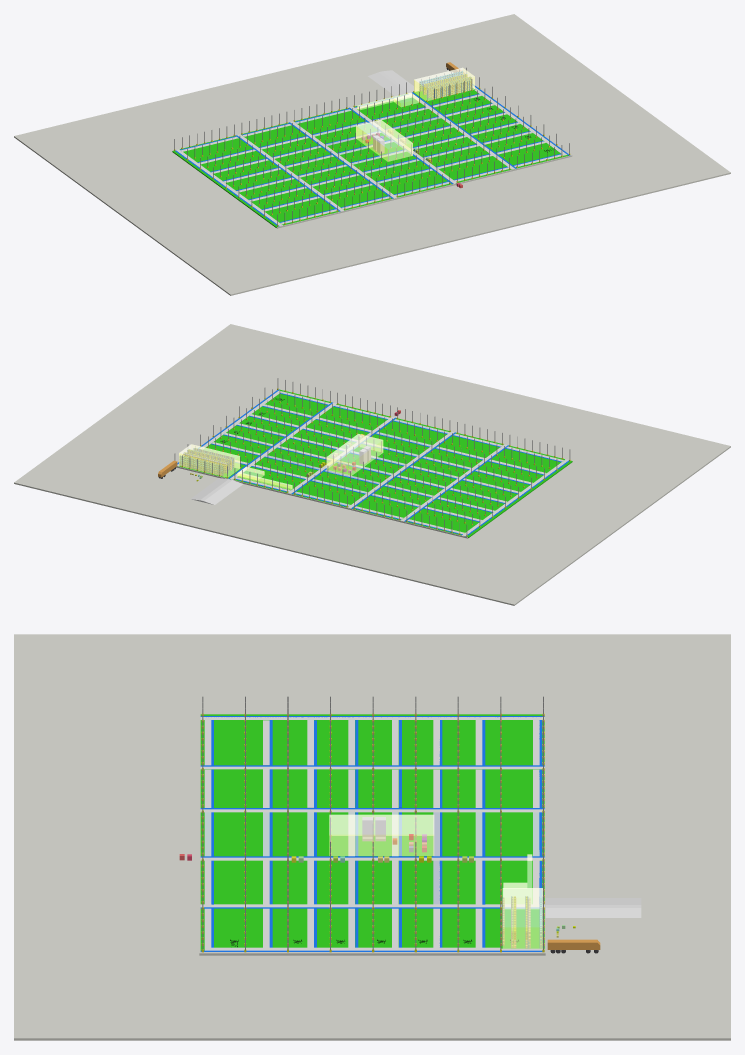
The model's file is factorylogisticanimation.glb.
The picture shows the model from 3 angles, top to bottom: view 1: azimuth 30°, elevation 25°; view 2: azimuth 150°, elevation 25°; view 3: azimuth 270°, elevation 25°; orthographic projection. The views are drawn at different scales.
Visible parts, largest first — view 1: 主厂区地面, 厂区地面, 顶部立柱阵列, 主仓库区, 底部立柱阵列, 成品立体库40-47, 主厂房水泥基础, 三期连接通道; view 2: 主厂区地面, 厂区地面, 顶部立柱阵列, 主仓库区, 底部立柱阵列, 成品立体库40-47, 主厂房水泥基础, 三期连接通道; view 3: 主厂区地面, 厂区地面, 主仓库区, 顶部立柱阵列, 底部立柱阵列, 成品立体库40-47, 主厂房水泥基础, 三期连接通道, 通道.002, 通道.003, 通道, 通道.005 (+5 smaller).
Boxes of the visible parts, <box> form: 主厂区地面: <box>14,14,730,295</box>; 厂区地面: <box>172,88,568,227</box>; 顶部立柱阵列: <box>174,67,569,224</box>; 主仓库区: <box>356,119,412,161</box>; 底部立柱阵列: <box>174,87,570,226</box>; 成品立体库40-47: <box>414,67,474,100</box>; 主厂房水泥基础: <box>173,83,572,228</box>; 三期连接通道: <box>368,70,418,96</box>; 主厂区地面: <box>14,324,730,605</box>; 厂区地面: <box>177,389,572,537</box>; 顶部立柱阵列: <box>174,378,570,534</box>; 主仓库区: <box>326,434,383,475</box>; 底部立柱阵列: <box>181,388,570,536</box>; 成品立体库40-47: <box>179,444,239,477</box>; 主厂房水泥基础: <box>176,389,571,538</box>; 三期连接通道: <box>190,478,242,504</box>; 主厂区地面: <box>14,634,730,1040</box>; 厂区地面: <box>200,714,544,950</box>; 主仓库区: <box>329,814,434,855</box>; 顶部立柱阵列: <box>202,696,543,949</box>; 底部立柱阵列: <box>201,713,544,952</box>; 成品立体库40-47: <box>502,888,542,948</box>; 主厂房水泥基础: <box>199,715,545,955</box>; 三期连接通道: <box>545,898,641,917</box>; 通道.002: <box>200,809,544,812</box>; 通道.003: <box>200,766,544,769</box>; 通道: <box>200,904,544,907</box>; 通道.005: <box>204,947,500,950</box>.
Size of the model in its own units: 400 by 11.96 by 300.
